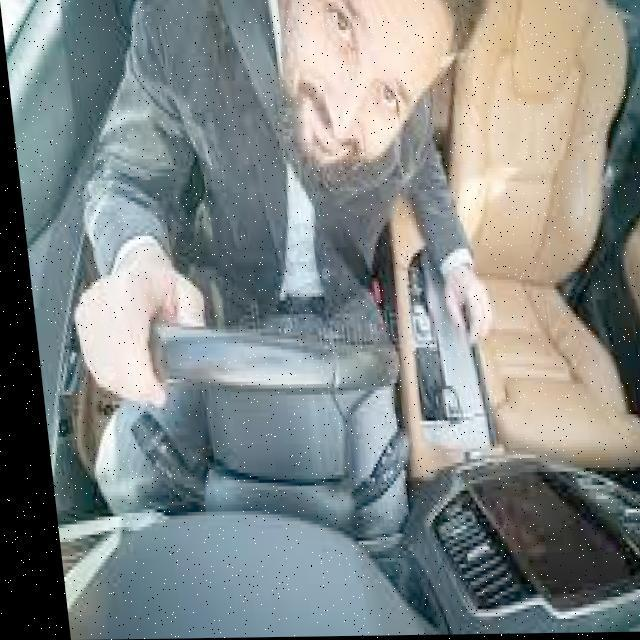seatbelt: (175, 0, 372, 306)
